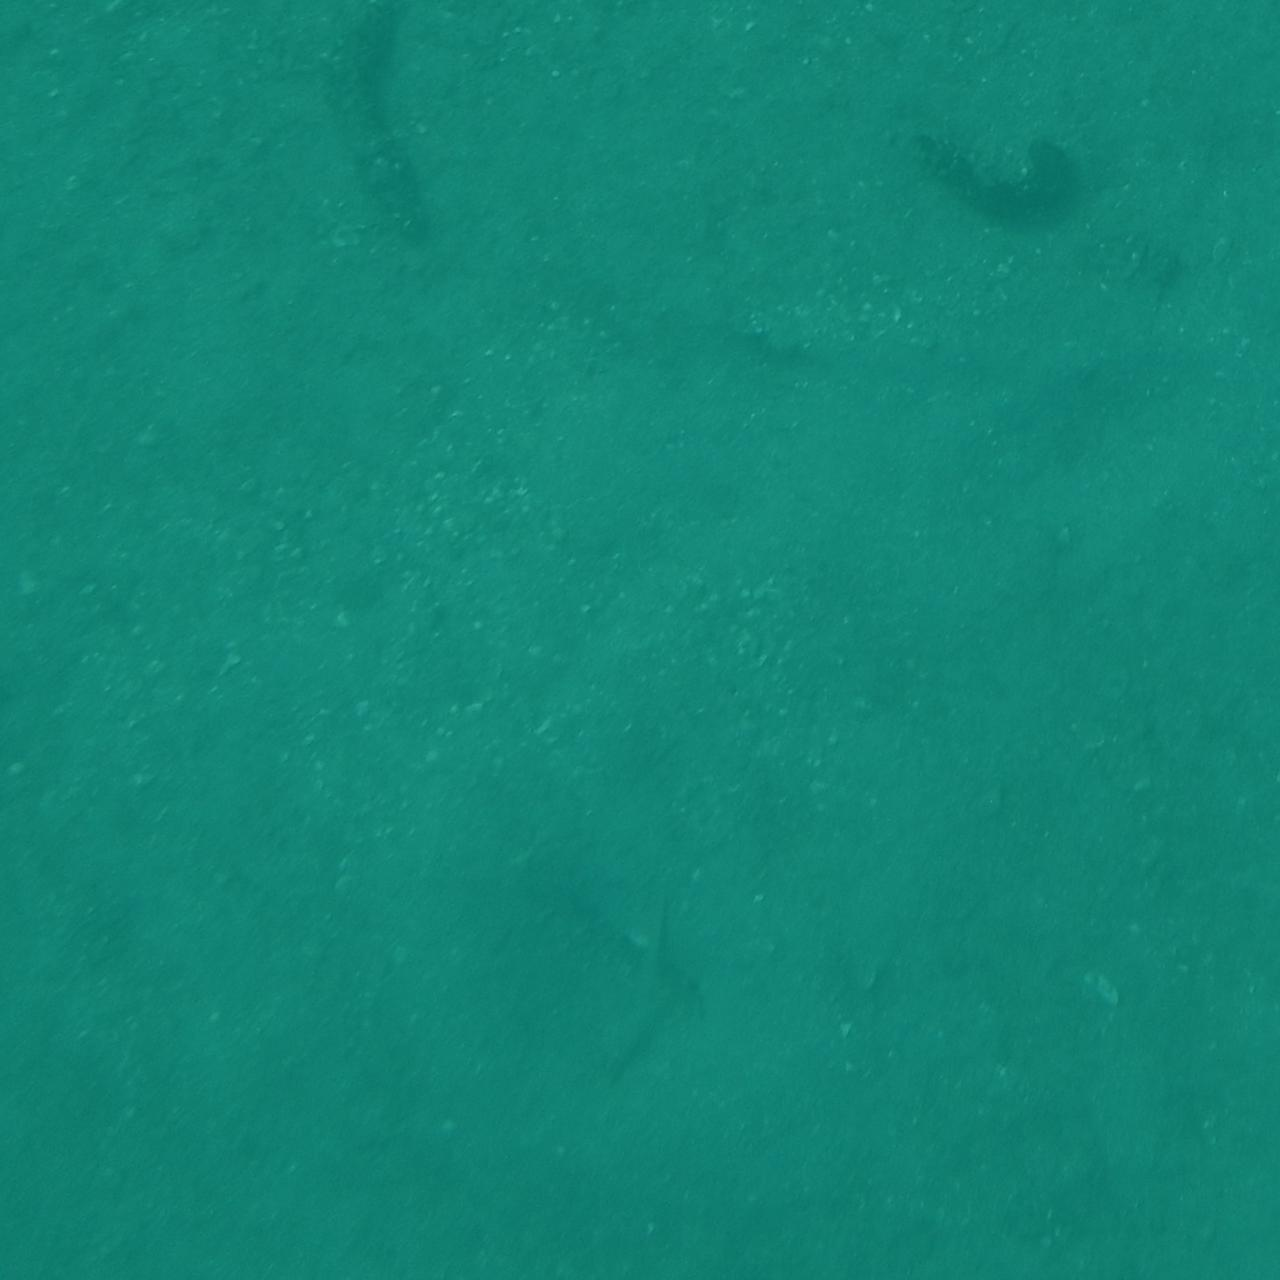Holothuria tubulosa: (331, 0, 452, 267), (0, 990, 102, 1255), (442, 1177, 701, 1280), (888, 129, 1105, 243), (0, 161, 98, 399), (1141, 710, 1280, 876), (1219, 839, 1280, 1187), (0, 138, 186, 252), (0, 1014, 73, 1271), (0, 0, 116, 127), (1178, 0, 1280, 143)
